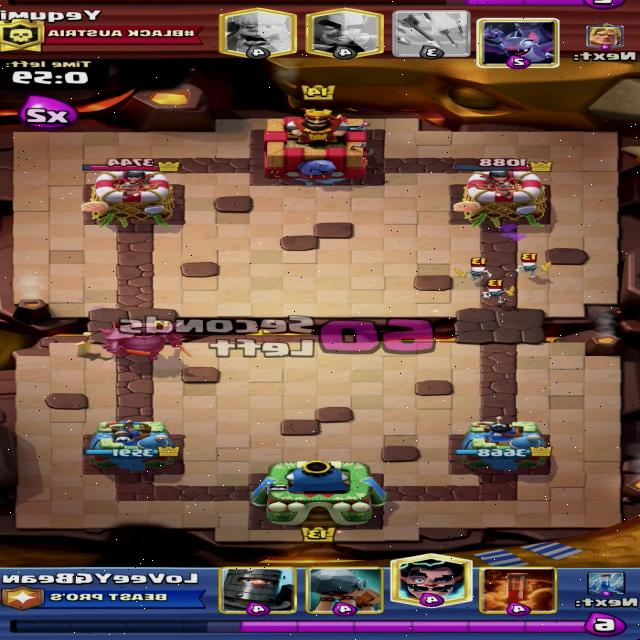Enemy-PEKKA: (100, 320, 191, 359)
Enemy-Skeleton: (454, 257, 492, 282), (515, 253, 551, 278), (482, 279, 515, 303)
